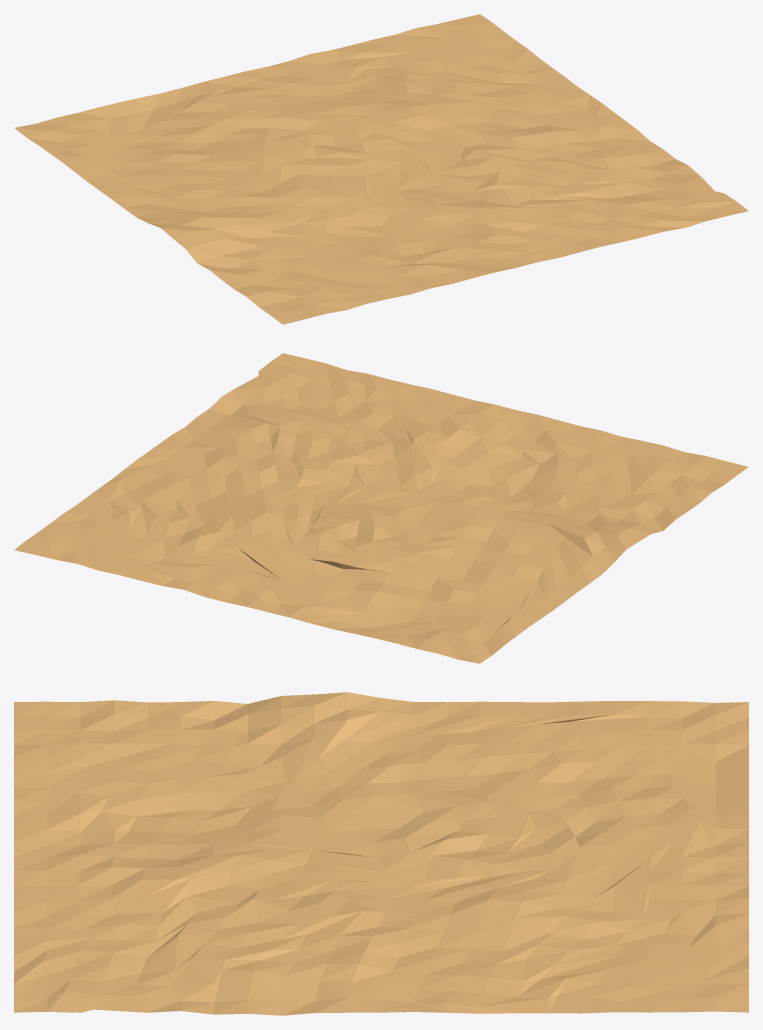
The model's file is ground_plane.01.fbx.
3 views of the same model, one above another, from view 1: azimuth 30°, elevation 25°; view 2: azimuth 150°, elevation 25°; view 3: azimuth 270°, elevation 25° (orthographic). The views are drawn at different scales.
Visible parts, largest first — view 1: ground_plane.01; view 2: ground_plane.01; view 3: ground_plane.01.
Part boxes in pixels (x1,y1,x2,y2): ground_plane.01: [14, 14, 748, 324]; ground_plane.01: [14, 353, 748, 663]; ground_plane.01: [14, 692, 748, 1015].
Size of the model in its own units: 7200 by 189 by 7200.
